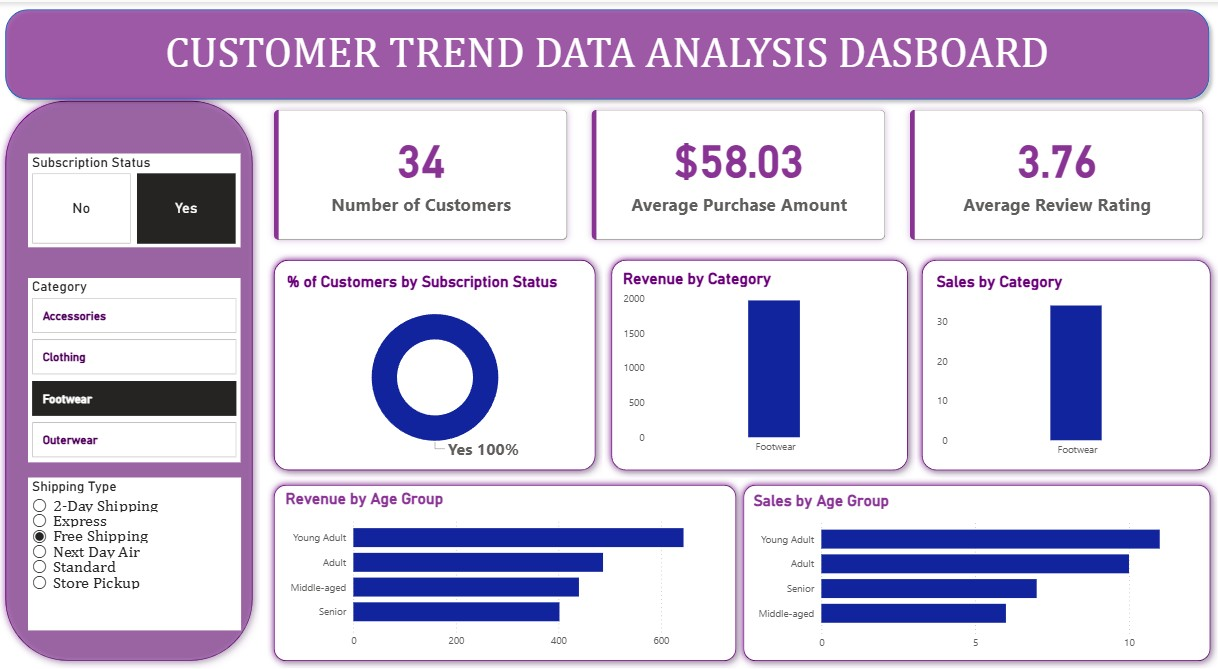

What the dashboard file says about the page in this screenshot:
{"tool":"powerbi","page":{"name":"Page 1","canvas":[1280,720],"ordinal":0},"visuals":[{"type":"shape","box":[0,0,1279.2,103.6],"z":0},{"type":"shape","box":[0,92.3,270.4,620.2],"z":1000},{"type":"cardVisual","fields":{"Data":["customer.No.of Customers","customer.Average Purchase Amount","customer.Average Review Rating"]},"box":[270.4,103.6,1008.8,205.6],"z":2000},{"type":"shape","box":[289.8,294.7,338.4,218.6],"z":3000},{"type":"donutChart","title":"% of Customers by subscription status","fields":{"Category":["customer.subscription_status"],"Y":["CountNonNull(customer.customer_id)"]},"box":[312.5,309.3,289.8,186.2],"z":4000},{"type":"shape","box":[626.6,294.7,335.2,217],"z":5000},{"type":"shape","box":[961.8,293.1,317.4,218.6],"z":6000},{"type":"clusteredColumnChart","title":"Revenue by category","fields":{"Y":["Sum(customer.purchase_amount)"],"Category":["customer.category"]},"box":[647.7,309.3,293.1,187.8],"z":7000},{"type":"clusteredColumnChart","title":"Sales by category","fields":{"Y":["Sum(customer.purchase_amount)"],"Category":["customer.category"]},"box":[979.6,309.3,280.1,186.2],"z":8000},{"type":"shape","box":[289.8,513.3,485.8,207.3],"z":9000},{"type":"advancedSlicerVisual","title":"Subscription Status","fields":{"Values":["customer.subscription_status"]},"box":[14.6,119.8,239.6,89.1],"z":10000},{"type":"advancedSlicerVisual","title":"Gender","fields":{"Values":["customer.gender"]},"box":[14.6,210.5,238,105.2],"z":11000},{"type":"advancedSlicerVisual","title":"Category","fields":{"Values":["customer.category"]},"box":[14.6,317.4,239.6,197.5],"z":12000},{"type":"listSlicer","title":"Shipping Type","fields":{"Values":["customer.shipping_type"]},"box":[16.2,516.5,236.4,179.7],"z":13000},{"type":"hundredPercentStackedBarChart","title":"Revenue by Age Group","fields":{"Y":["Sum(customer.purchase_amount)"],"Category":["customer.age_group"]},"box":[309.3,532.7,443.7,168.4],"z":14000},{"type":"shape","box":[775.6,513.3,503.6,207.3],"z":15000},{"type":"hundredPercentStackedBarChart","title":"Sales by Age Group","fields":{"Y":["Sum(customer.purchase_amount)"],"Category":["customer.age_group"]},"box":[795,532.7,451.8,168.4],"z":16000}]}

Visuals, with their boxes in screenshot pixels (x1, y1, x2, y2), scaled from the page's 1280x720 canvas onto the 1218x669 screenshot:
shape: bbox=(0, 0, 1217, 96)
shape: bbox=(0, 86, 257, 662)
cardVisual - customer.No.of Customers x customer.Average Purchase Amount: bbox=(257, 96, 1217, 287)
shape: bbox=(276, 274, 598, 477)
"% of Customers by subscription status" donutChart: bbox=(297, 287, 573, 460)
shape: bbox=(596, 274, 915, 475)
shape: bbox=(915, 272, 1217, 475)
"Revenue by category" clusteredColumnChart: bbox=(616, 287, 895, 462)
"Sales by category" clusteredColumnChart: bbox=(932, 287, 1199, 460)
shape: bbox=(276, 477, 738, 668)
"Subscription Status" advancedSlicerVisual: bbox=(14, 111, 242, 194)
"Gender" advancedSlicerVisual: bbox=(14, 196, 240, 293)
"Category" advancedSlicerVisual: bbox=(14, 295, 242, 478)
"Shipping Type" listSlicer: bbox=(15, 480, 240, 647)
"Revenue by Age Group" hundredPercentStackedBarChart: bbox=(294, 495, 717, 651)
shape: bbox=(738, 477, 1217, 668)
"Sales by Age Group" hundredPercentStackedBarChart: bbox=(756, 495, 1186, 651)
